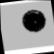correct: (20, 7, 48, 35)
